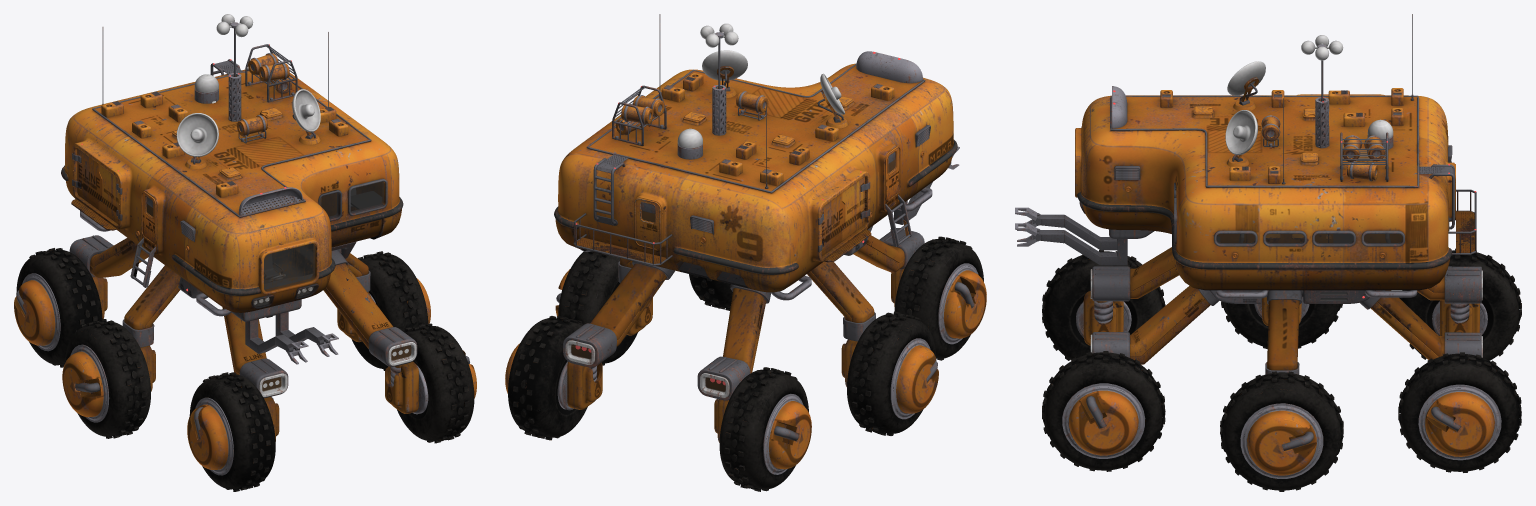
File: lunarRover.glb
The picture shows the model from 3 angles, left to right: view 1: azimuth 30°, elevation 25°; view 2: azimuth 150°, elevation 25°; view 3: azimuth 270°, elevation 25°; orthographic projection. The views are drawn at different scales.
Visible parts, largest first — view 1: Cube.115_68, Cube.009_27, Wheel.001_291, Wheel.004_294, Wheel.005_295, Wheel_290, Wheel.002_292, Plane.037_152, Cube.021_39, Cube.082_58, Cube.017_35, Sphere.006_242 (+20 smaller); view 2: Cube.115_68, Cube.009_27, Wheel.005_295, Wheel.004_294, Wheel.001_291, Wheel.003_293, Wheel.002_292, Plane.033_148, Plane.063_178, Cube.082_58, Cube.017_35, Cube.061_51 (+15 smaller); view 3: Cube.115_68, Cube.009_27, Wheel.002_292, Wheel.003_293, Wheel_290, Cube.047_46, Wheel.001_291, Wheel.005_295, Plane.037_152, Wheel.004_294, Cube.001_19, Plane.033_148 (+21 smaller).
Boxes of the visible parts, box(x1,y1,x2,y2) form: Cube.115_68: box(61, 69, 403, 312); Cube.009_27: box(95, 71, 370, 214); Wheel.001_291: box(187, 372, 275, 491); Wheel.004_294: box(62, 319, 150, 438); Wheel.005_295: box(14, 248, 102, 367); Wheel_290: box(397, 323, 476, 443); Wheel.002_292: box(351, 251, 430, 370); Plane.037_152: box(323, 263, 411, 360); Cube.021_39: box(264, 243, 315, 291); Cube.082_58: box(77, 148, 118, 224); Cube.017_35: box(124, 265, 180, 329); Sphere.006_242: box(176, 113, 218, 156); Cube.115_68: box(554, 63, 957, 292); Cube.009_27: box(589, 65, 921, 191); Wheel.005_295: box(719, 367, 811, 491); Wheel.004_294: box(847, 311, 938, 435); Wheel.001_291: box(894, 236, 986, 360); Wheel.003_293: box(505, 316, 587, 440); Wheel.002_292: box(555, 251, 637, 365); Plane.033_148: box(571, 263, 666, 358); Plane.063_178: box(705, 288, 766, 391); Cube.082_58: box(822, 177, 864, 255); Cube.017_35: box(807, 261, 874, 322); Cube.061_51: box(856, 51, 922, 83); Cube.115_68: box(1075, 94, 1455, 269); Cube.009_27: box(1112, 96, 1417, 187); Wheel.002_292: box(1220, 371, 1343, 491); Wheel.003_293: box(1398, 352, 1521, 472); Wheel_290: box(1042, 351, 1165, 471); Cube.047_46: box(1174, 258, 1450, 290); Wheel.001_291: box(1042, 250, 1165, 360); Wheel.005_295: box(1399, 248, 1521, 360); Plane.037_152: box(1130, 285, 1210, 364); Wheel.004_294: box(1221, 301, 1342, 348); Cube.001_19: box(1267, 299, 1299, 370); Plane.033_148: box(1370, 290, 1444, 359).
Size of the model in its own units: 3.04 by 3.06 by 3.71.
6 materials, 2 textured.
